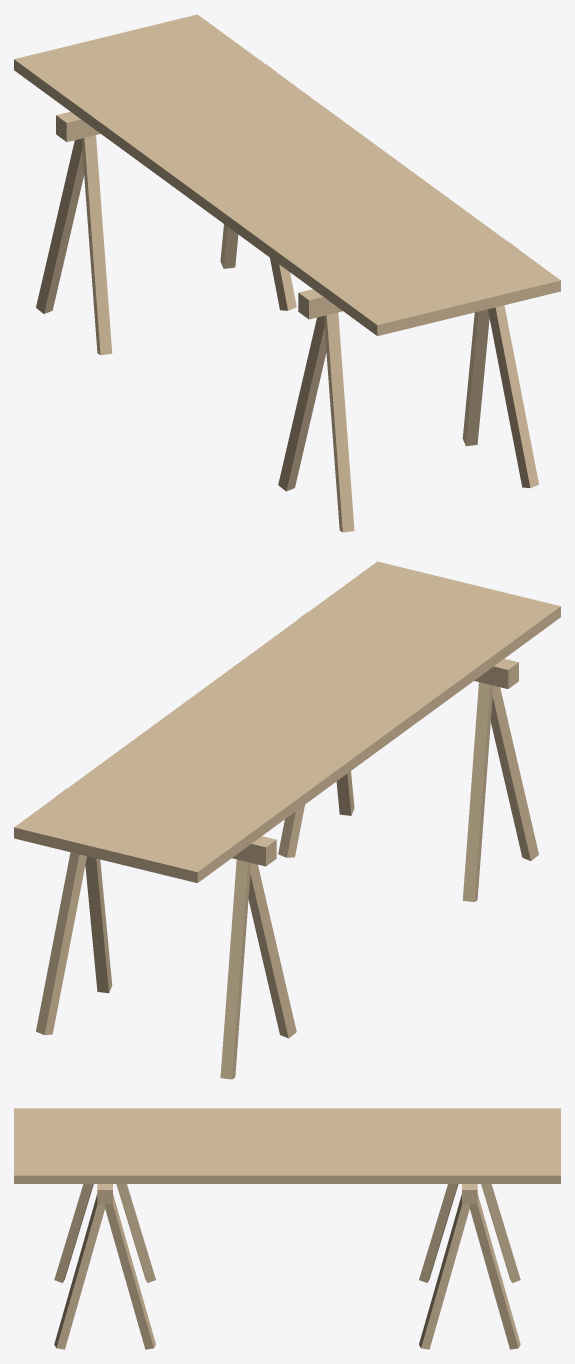
Rendered from plant.access.trestles.glb.
The picture shows the model from 3 angles, top to bottom: view 1: azimuth 30°, elevation 25°; view 2: azimuth 150°, elevation 25°; view 3: azimuth 270°, elevation 25°; orthographic projection. The views are drawn at different scales.
Parts seen in each view (by area): view 1: main__softwood; view 2: main__softwood; view 3: main__softwood.
Boxes of the visible parts, left/top/right/bottom form: main__softwood: left=14, top=14, right=560, bottom=532; main__softwood: left=14, top=561, right=560, bottom=1079; main__softwood: left=14, top=1108, right=560, bottom=1349.
Size of the model in its own units: 0.8 by 0.8353 by 2.4.
